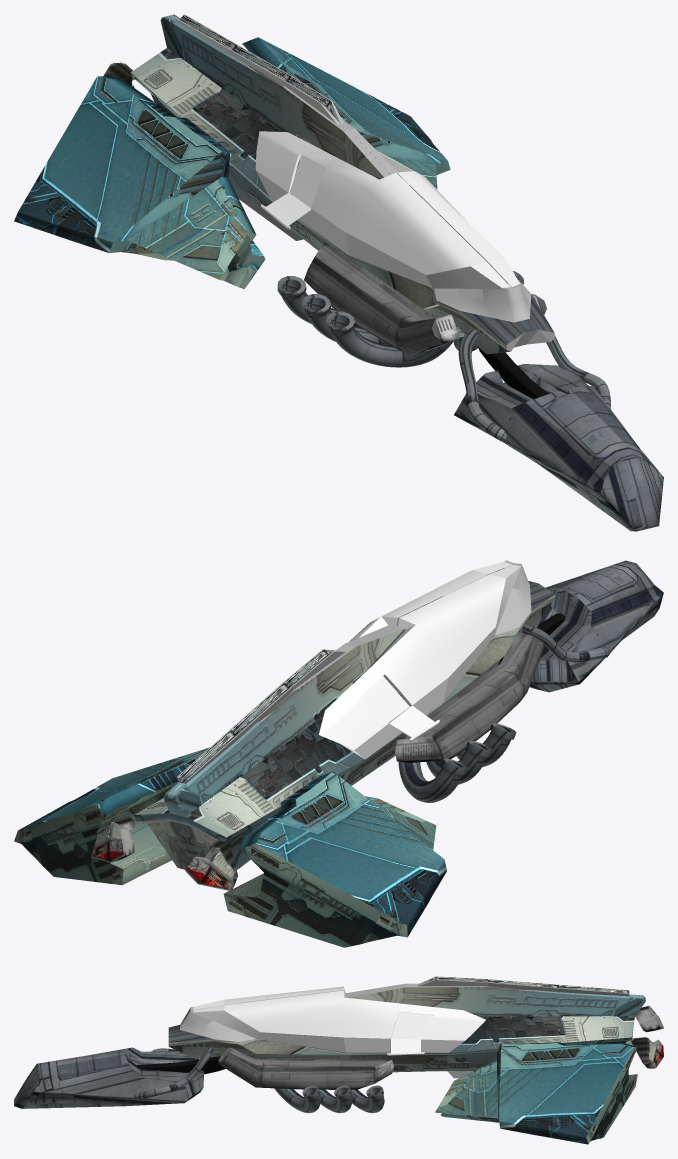
Rendered from NAVE1_junta.fbx.
3 renders of one model, top to bottom at view 1: azimuth 30°, elevation 25°; view 2: azimuth 150°, elevation 25°; view 3: azimuth 270°, elevation 25°, orthographic. The views are drawn at different scales.
Parts seen in each view (by area): view 1: Propulsor2, Principal, parabrisas2, punta1, battery1, Propulsor1, escape1, parabrisas1, tube3, soporte, puerta2, tube2; view 2: Principal, Propulsor2, parabrisas2, Propulsor1, punta1, battery1, escape1, faro2, parabrisas1, faro1, puerta2, tube3; view 3: Principal, Propulsor1, parabrisas1, punta1, battery, escape1, parabrisas2, puerta1, soporte, tube2, faro1, faro2.
Boxes of the visible parts, bbox=[...] form: Propulsor2: bbox=[14, 76, 265, 289]; Principal: bbox=[130, 14, 554, 354]; parabrisas2: bbox=[255, 131, 510, 288]; punta1: bbox=[454, 364, 663, 531]; battery1: bbox=[304, 241, 459, 355]; Propulsor1: bbox=[242, 37, 450, 189]; escape1: bbox=[277, 271, 523, 367]; parabrisas1: bbox=[377, 151, 519, 286]; tube3: bbox=[458, 327, 506, 440]; soporte: bbox=[478, 347, 548, 399]; puerta2: bbox=[289, 155, 325, 207]; tube2: bbox=[546, 336, 610, 408]; Principal: bbox=[134, 560, 554, 869]; Propulsor2: bbox=[223, 771, 446, 947]; parabrisas2: bbox=[319, 565, 520, 759]; Propulsor1: bbox=[14, 747, 209, 885]; punta1: bbox=[529, 560, 663, 692]; battery1: bbox=[395, 632, 545, 762]; escape1: bbox=[398, 723, 516, 802]; faro2: bbox=[185, 840, 237, 890]; parabrisas1: bbox=[349, 561, 511, 641]; faro1: bbox=[91, 816, 135, 862]; puerta2: bbox=[359, 676, 409, 723]; tube3: bbox=[522, 623, 609, 662]; Principal: bbox=[168, 976, 645, 1078]; Propulsor1: bbox=[435, 1042, 637, 1144]; parabrisas1: bbox=[193, 990, 485, 1055]; punta1: bbox=[14, 1047, 203, 1108]; battery: bbox=[218, 1047, 393, 1089]; escape1: bbox=[274, 1085, 384, 1113]; parabrisas2: bbox=[193, 986, 368, 1009]; puerta1: bbox=[391, 1012, 433, 1039]; soporte: bbox=[137, 1056, 225, 1074]; tube2: bbox=[133, 1047, 213, 1099]; faro1: bbox=[631, 1037, 663, 1068]; faro2: bbox=[635, 1005, 663, 1032].
Bounding box in the file's own units: 252 × 547 × 118.
